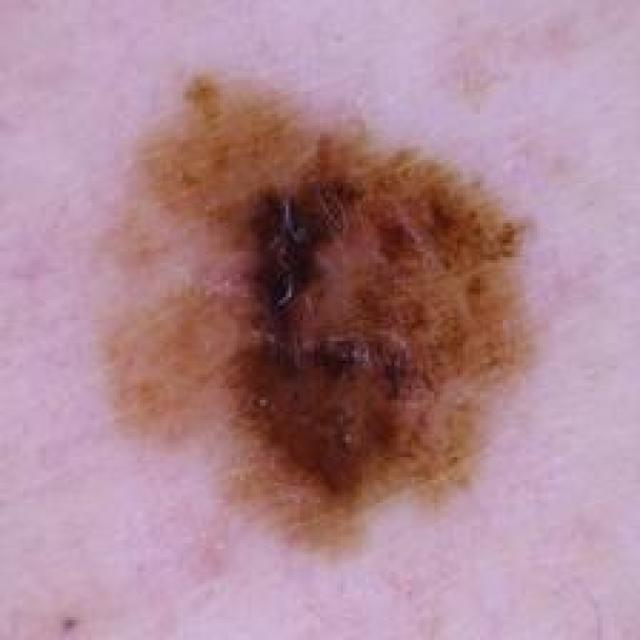Cancer: (92, 69, 537, 557)
